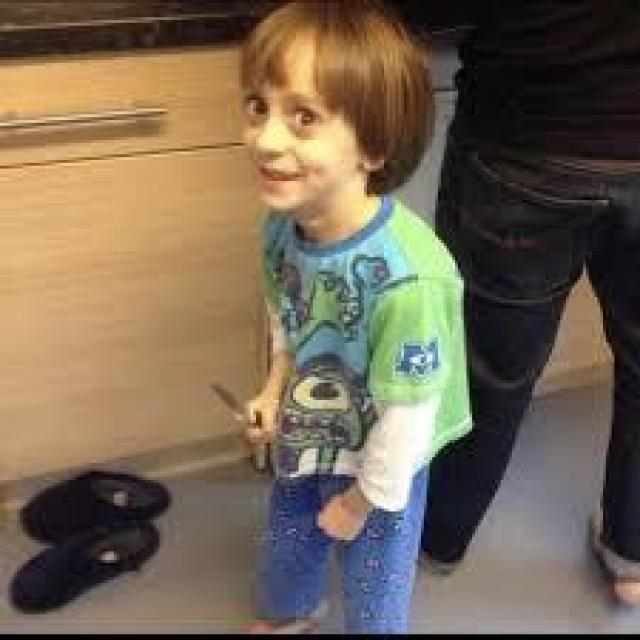child: (202, 3, 478, 635)
